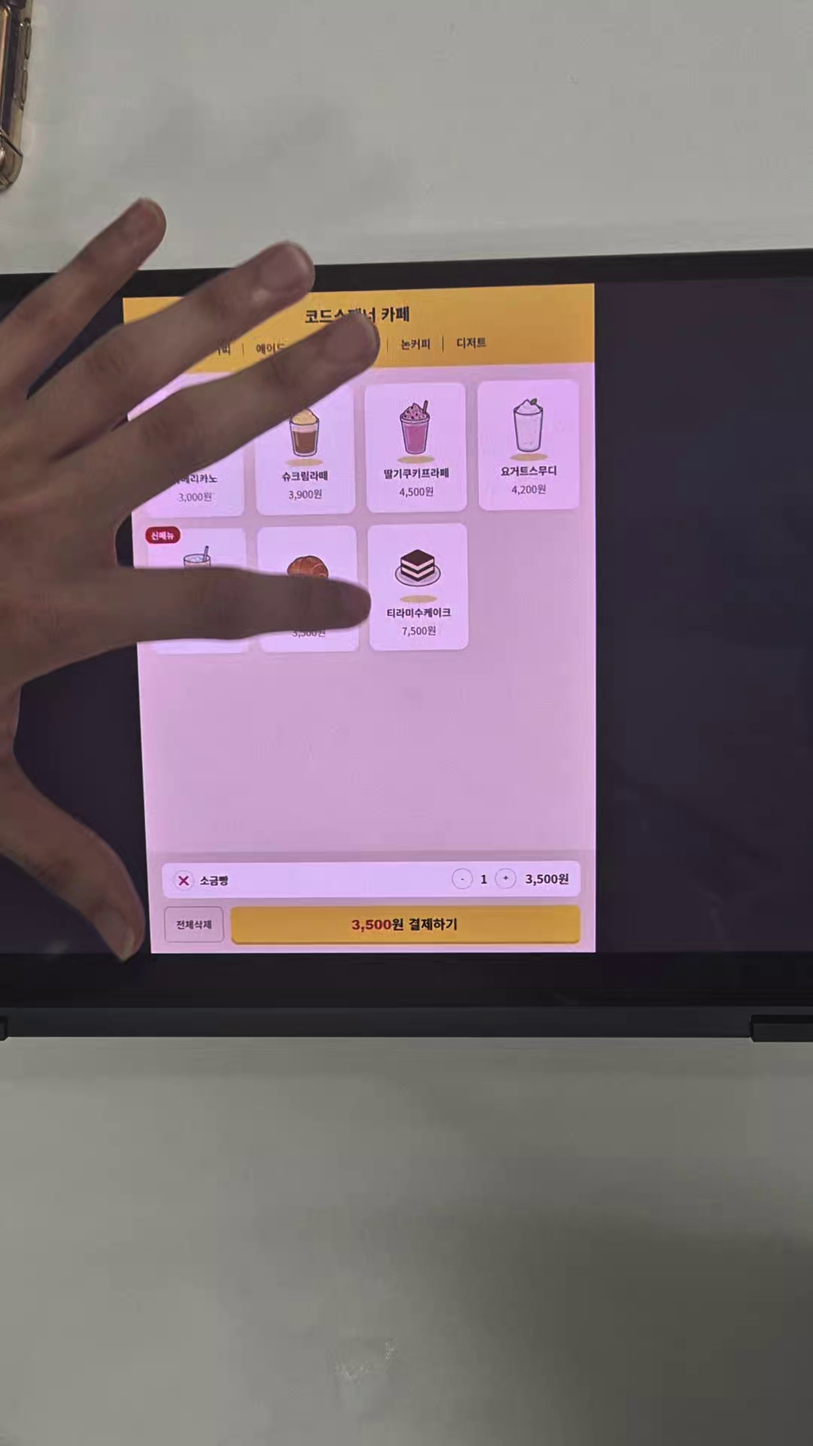action_button: (231, 905, 581, 945), (165, 907, 224, 942)
cart_item: (162, 861, 581, 898)
category_tab: (455, 334, 488, 351), (399, 336, 432, 352)
menu_back: (365, 382, 467, 514), (478, 379, 580, 511), (147, 528, 249, 657), (254, 386, 355, 516), (257, 525, 359, 653), (367, 523, 469, 651)
menu_name: (382, 465, 450, 481), (499, 464, 558, 478), (385, 607, 452, 619), (281, 469, 329, 483)
menu_price: (400, 624, 437, 638), (510, 483, 549, 496), (286, 488, 323, 501), (398, 486, 435, 499), (177, 491, 213, 504)
